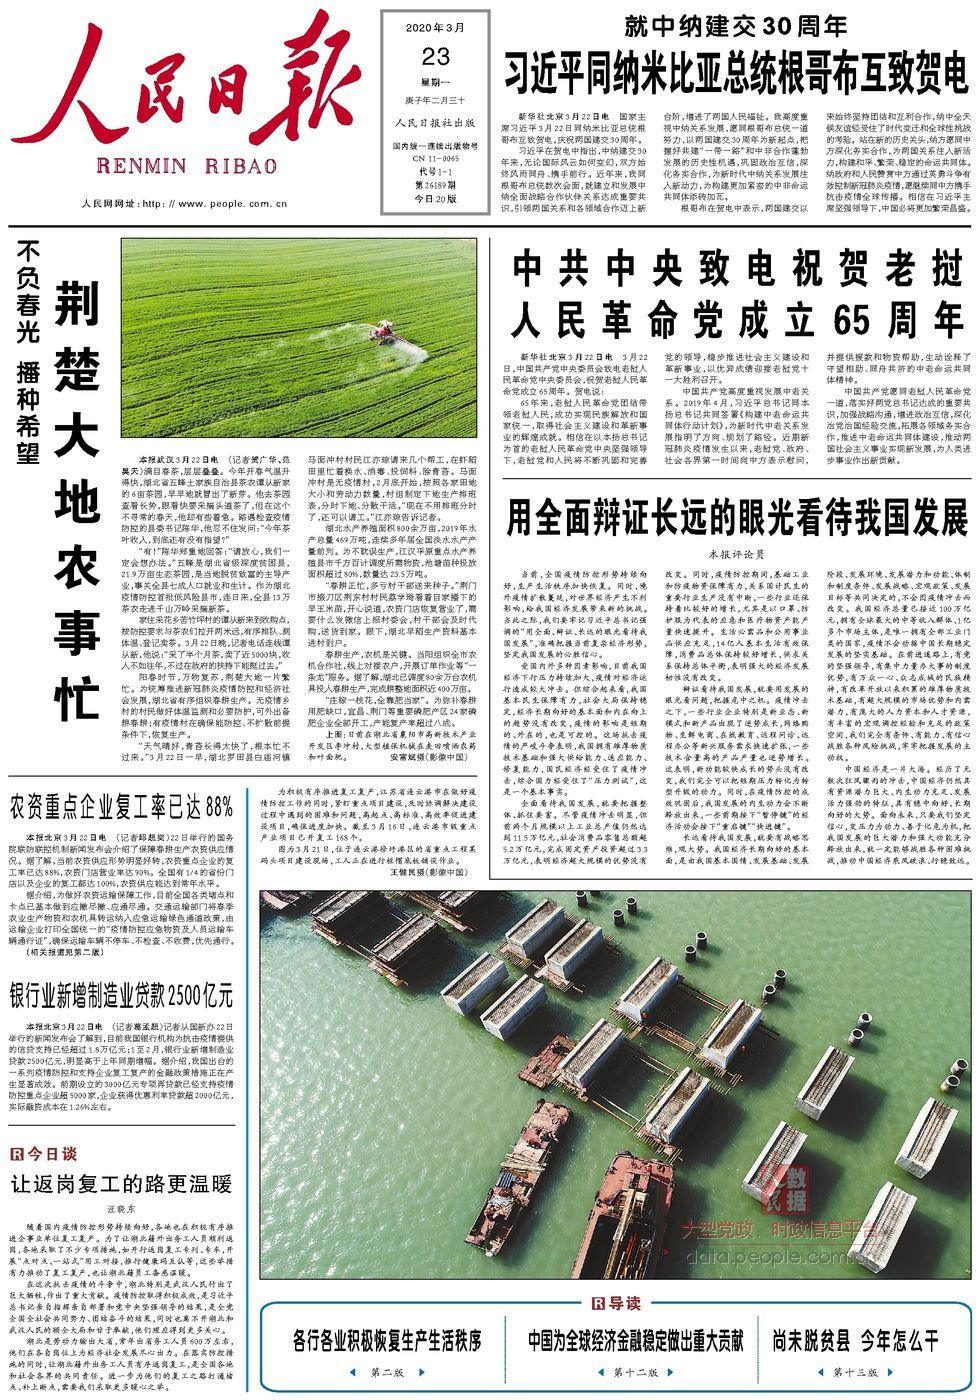pic: (255, 885, 977, 1287), (117, 234, 483, 444)
